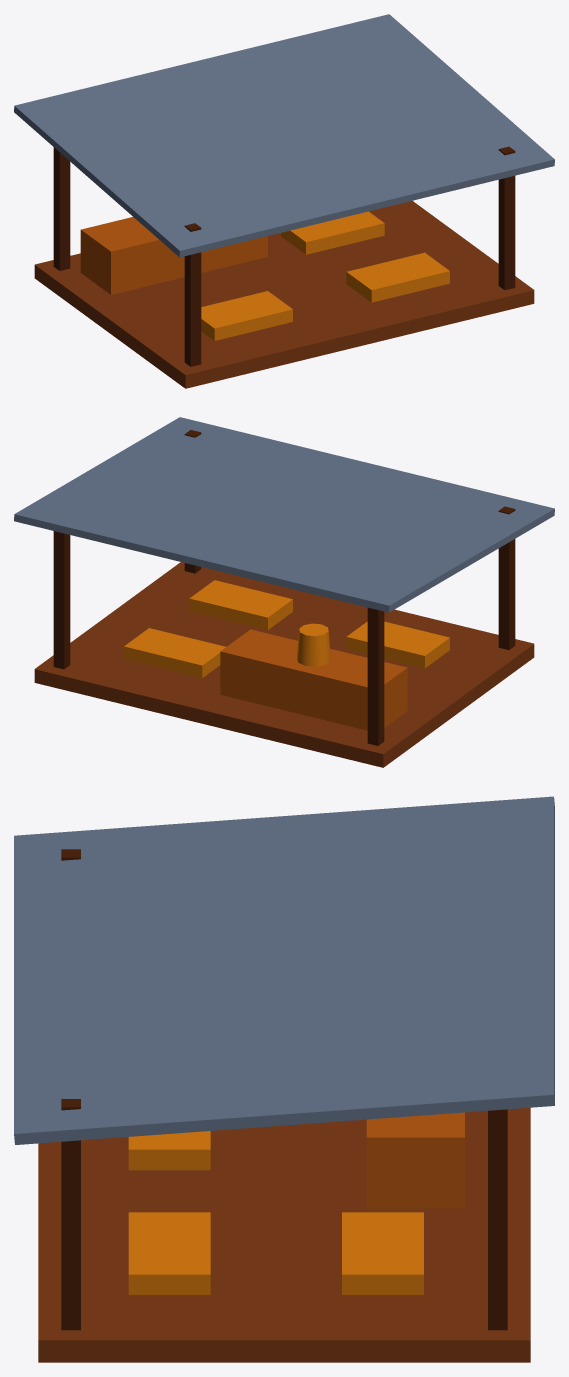
Rendered from ring_dhaba.glb.
3 renders of one model, top to bottom at view 1: azimuth 30°, elevation 25°; view 2: azimuth 150°, elevation 25°; view 3: azimuth 270°, elevation 25°, orthographic. The views are drawn at different scales.
Visible parts, largest first — view 1: RingDhaba; view 2: RingDhaba; view 3: RingDhaba.
Boxes of the visible parts, x1,y1,x2,y2 form: RingDhaba: (14,14,554,388); RingDhaba: (14,417,554,767); RingDhaba: (14,796,554,1362).
Size of the model in its own units: 8.6 by 3.74 by 6.59.
